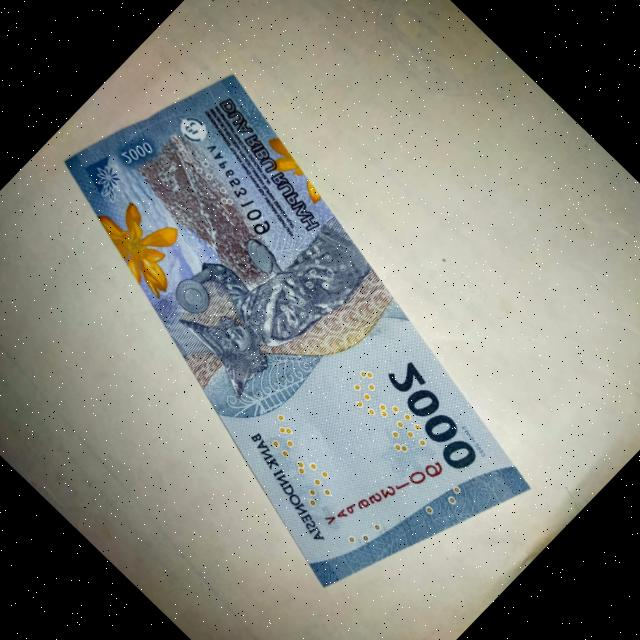2K: (0, 5, 614, 640)
